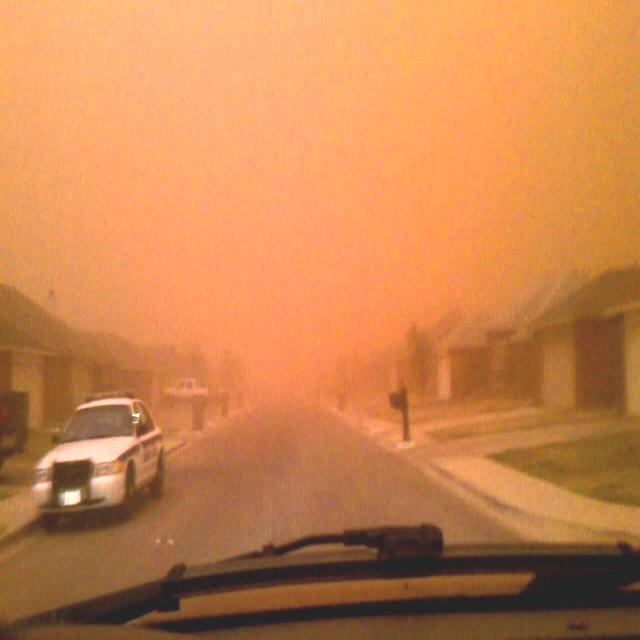Car: (32, 384, 167, 541), (165, 360, 219, 408)
